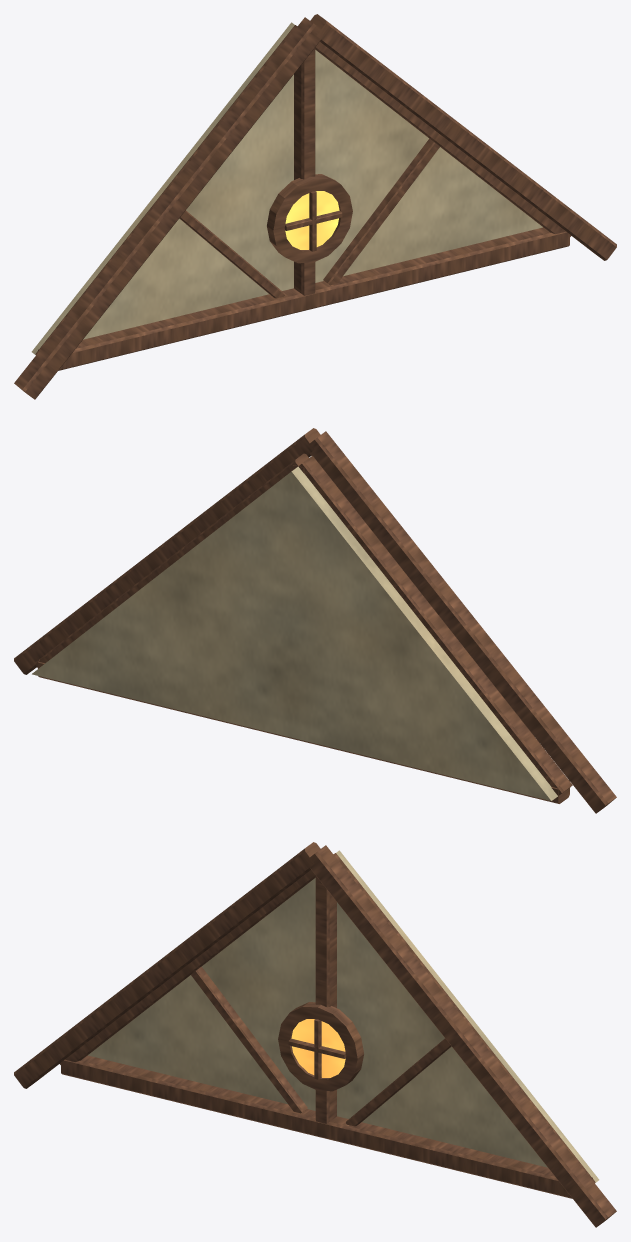
Rendered from gable_wide.glb.
The picture shows the model from 3 angles, top to bottom: view 1: azimuth 30°, elevation 25°; view 2: azimuth 150°, elevation 25°; view 3: azimuth 330°, elevation 25°; orthographic projection.
Parts seen in each view (by area): view 1: Gable Wide; view 2: Gable Wide; view 3: Gable Wide.
Part boxes in pixels (box(x1,y1,x2,y2)): Gable Wide: box(14, 14, 616, 399); Gable Wide: box(14, 428, 616, 813); Gable Wide: box(14, 842, 616, 1227).
Size of the model in its own units: 7.31 by 3.63 by 0.632.
3 materials, 3 textured.
